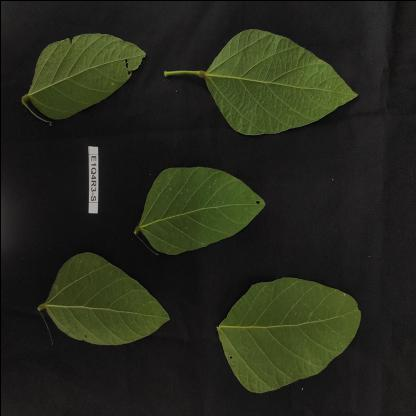label: (78, 134, 103, 214)
leaflets: (216, 267, 366, 401), (192, 28, 368, 134), (122, 144, 280, 258), (30, 243, 164, 373), (20, 17, 138, 131)
